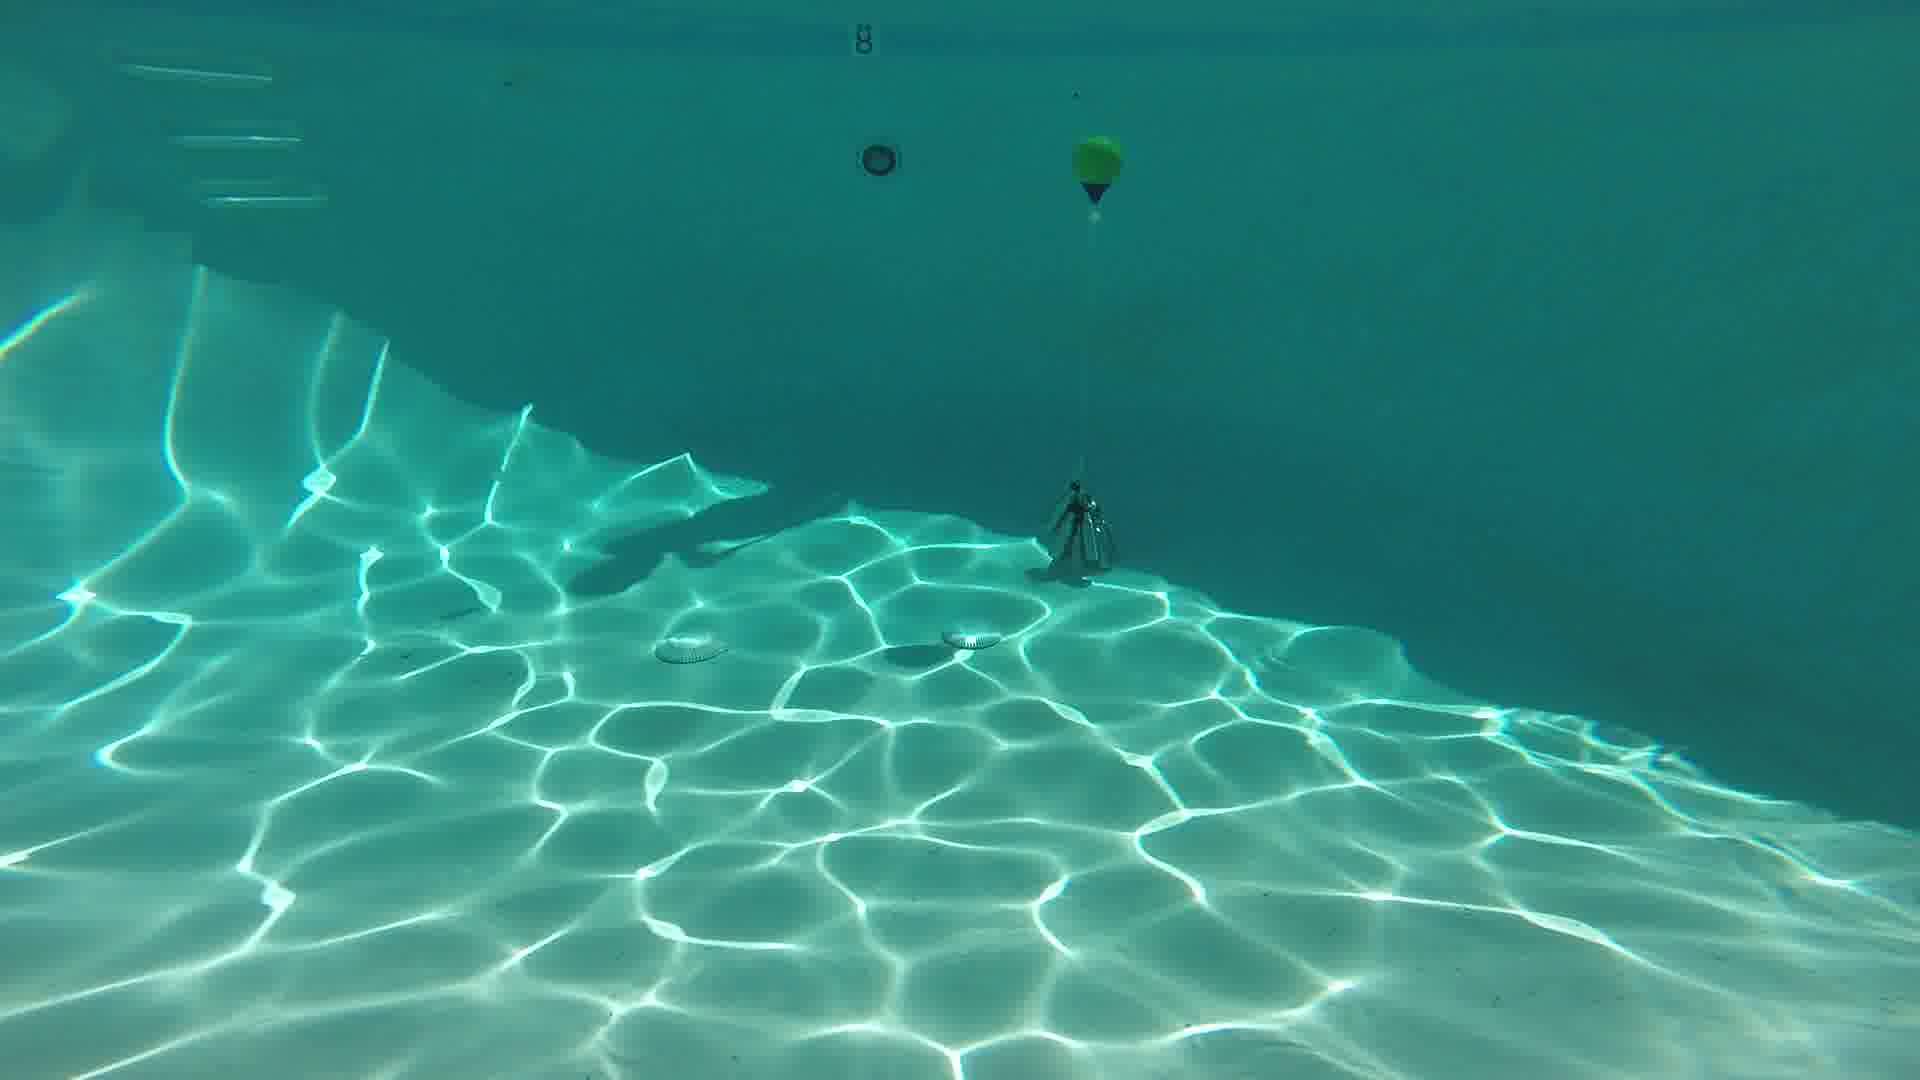yellow_buoy: (1071, 138, 1122, 204)
